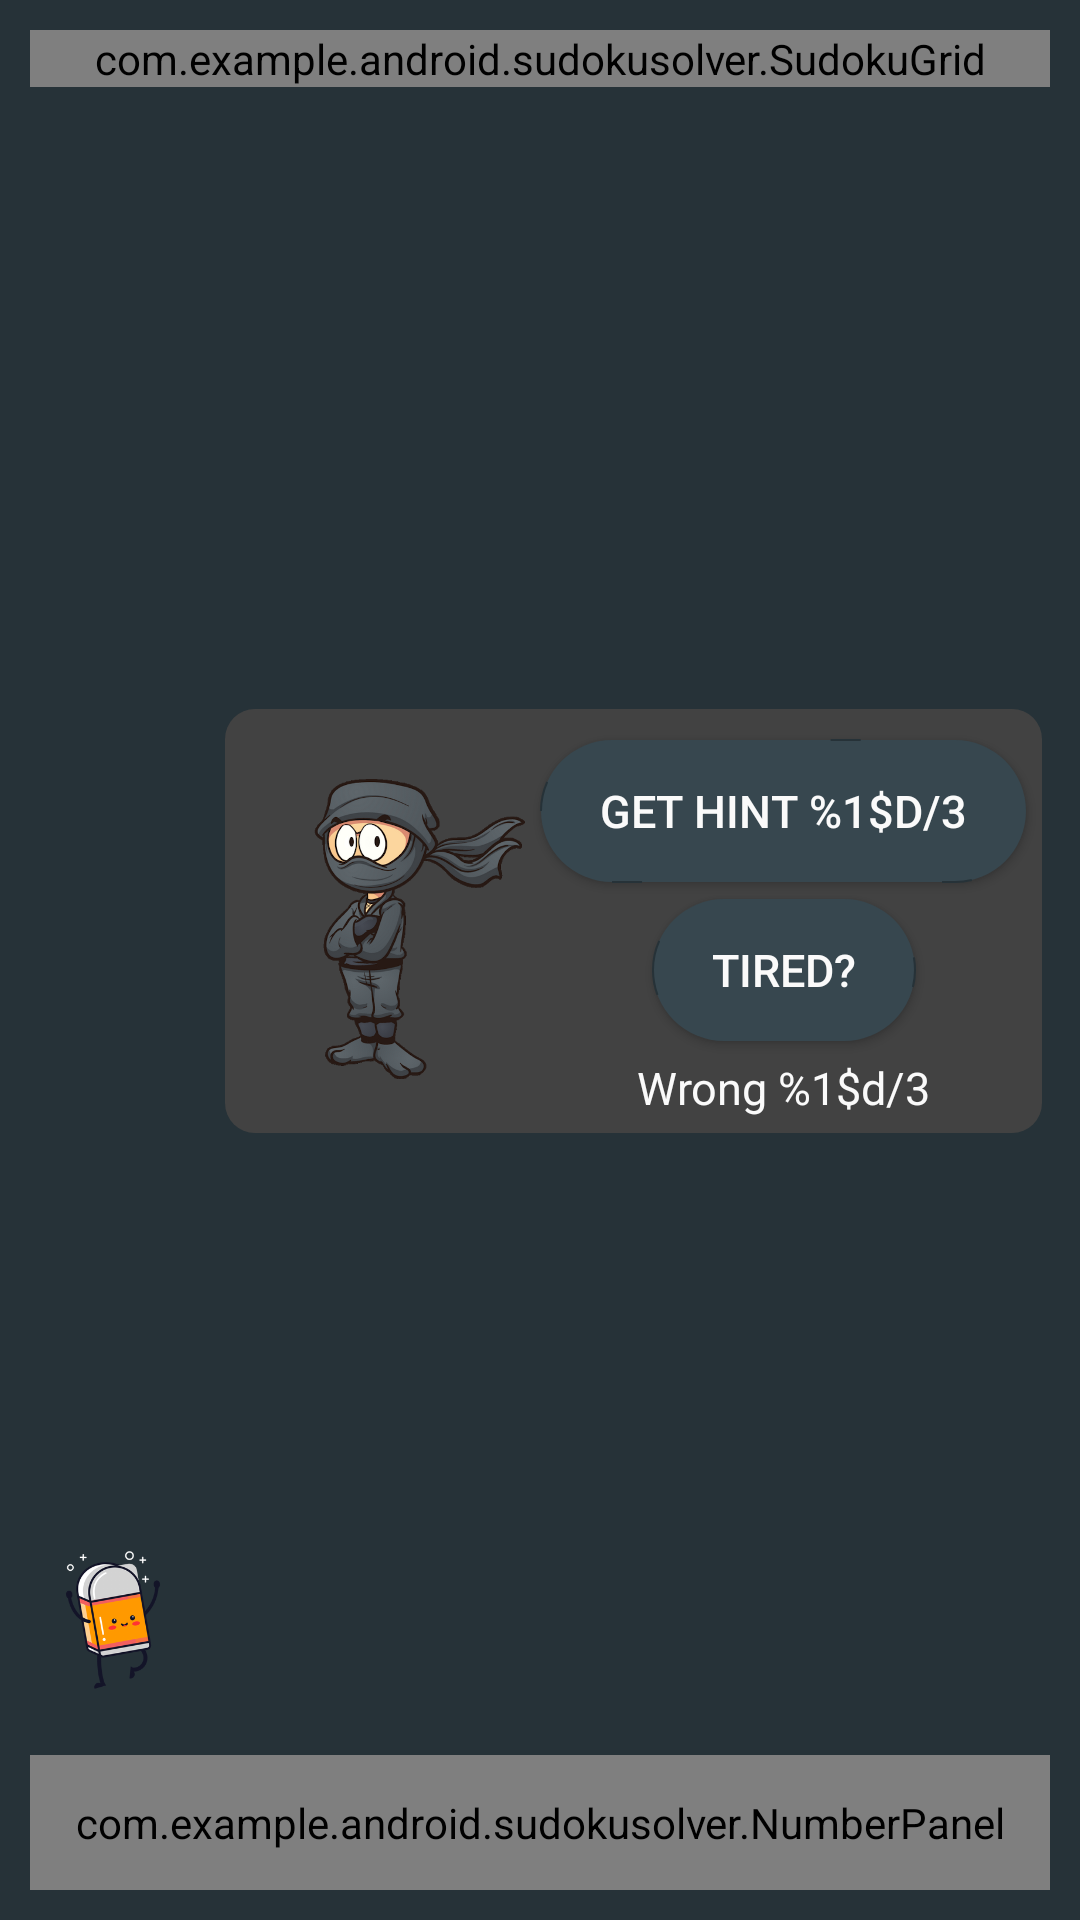

Icons on this 1080 × 1920 Android screen, each with its box as (x1, y1, x2, y2):
eraser: (66, 1551, 160, 1688)
ninja: (315, 779, 525, 1079)
